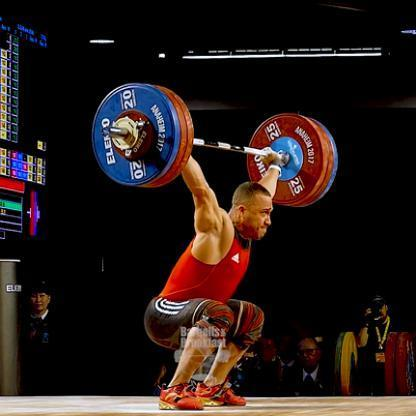barbell: (91, 82, 340, 209)
